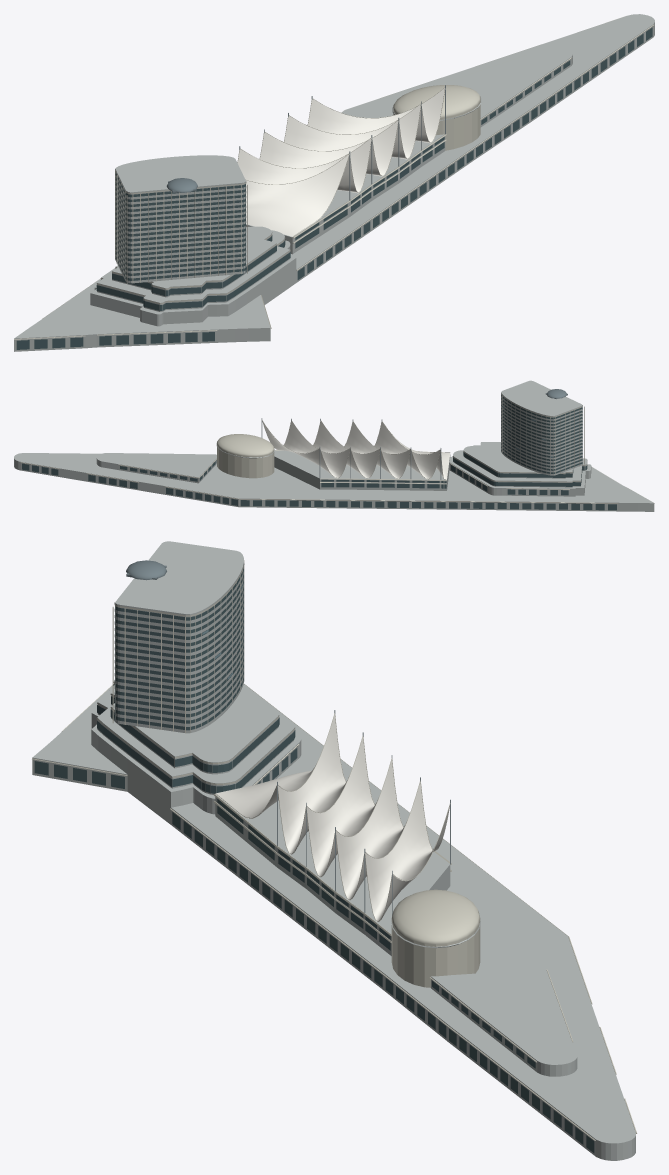
The model's file is canada-place-far.glb.
3 views of the same model, one above another, from view 1: azimuth 30°, elevation 25°; view 2: azimuth 150°, elevation 25°; view 3: azimuth 270°, elevation 25° (orthographic). The views are drawn at different scales.
Parts seen in each view (by area): view 1: canada-place-0-concrete, canada-place-0-glass, canada-place-0-fabric, canada-place-0-trim; view 2: canada-place-0-concrete, canada-place-0-glass, canada-place-0-trim, canada-place-0-fabric, canada-place-0-steel; view 3: canada-place-0-concrete, canada-place-0-glass, canada-place-0-fabric, canada-place-0-trim.
Part boxes in pixels (x1,y1,x2,y2): canada-place-0-concrete: (14, 14, 654, 351); canada-place-0-glass: (16, 27, 652, 349); canada-place-0-fabric: (237, 88, 444, 236); canada-place-0-trim: (14, 17, 653, 339); canada-place-0-concrete: (14, 380, 654, 511); canada-place-0-glass: (22, 395, 616, 510); canada-place-0-trim: (20, 393, 654, 503); canada-place-0-fabric: (262, 420, 450, 479); canada-place-0-steel: (261, 418, 441, 479); canada-place-0-concrete: (32, 541, 635, 1160); canada-place-0-glass: (34, 568, 594, 1152); canada-place-0-fabric: (216, 714, 449, 921); canada-place-0-trim: (32, 560, 637, 1140).
Bounding box in the file's own units: 496 × 81.5 × 246.
